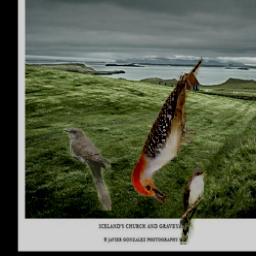Cuckoo: (63, 128, 111, 211), (180, 168, 207, 246)
Woodpecker: (132, 55, 203, 203)
